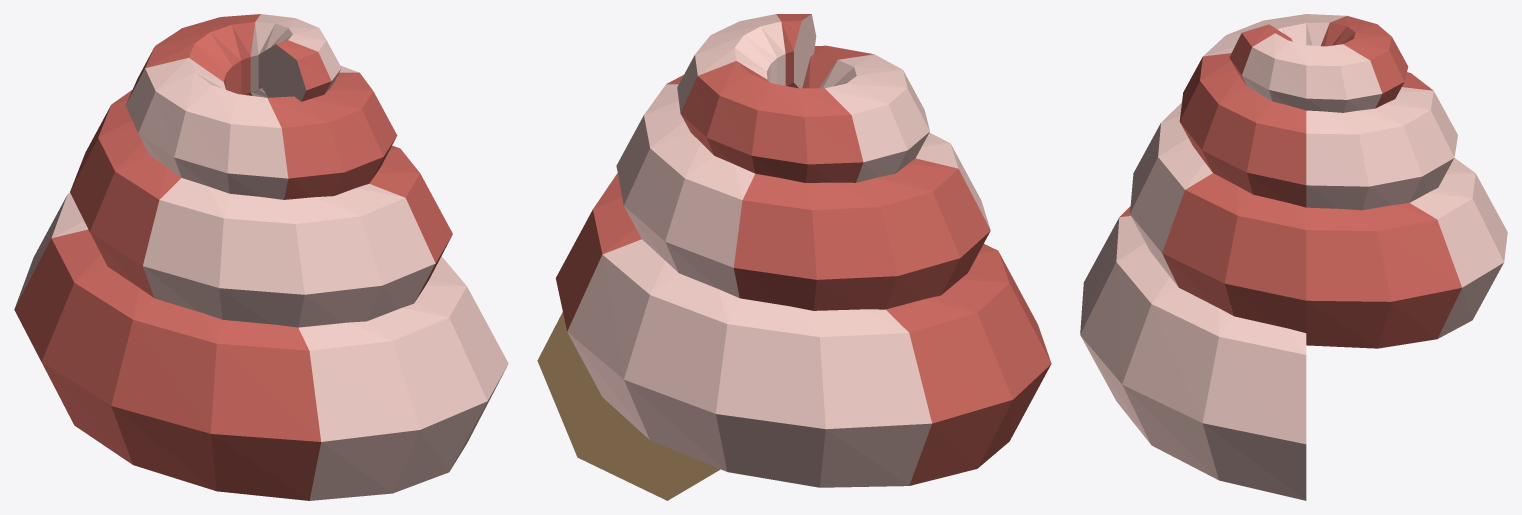
The model's file is deco_spiral_shell.obj.
3 renders of one model, left to right at view 1: azimuth 30°, elevation 25°; view 2: azimuth 150°, elevation 25°; view 3: azimuth 270°, elevation 25°, orthographic. The views are drawn at different scales.
Visible parts, largest first — view 1: deco_spiral_shell; view 2: deco_spiral_shell; view 3: deco_spiral_shell.
Part boxes in pixels (bbox=[...]): deco_spiral_shell: bbox=[14, 14, 508, 500]; deco_spiral_shell: bbox=[537, 14, 1051, 500]; deco_spiral_shell: bbox=[1080, 14, 1507, 500].
Bounding box in the file's own units: 0.0559 × 0.0552 × 0.0519.
1 material, 1 textured.
